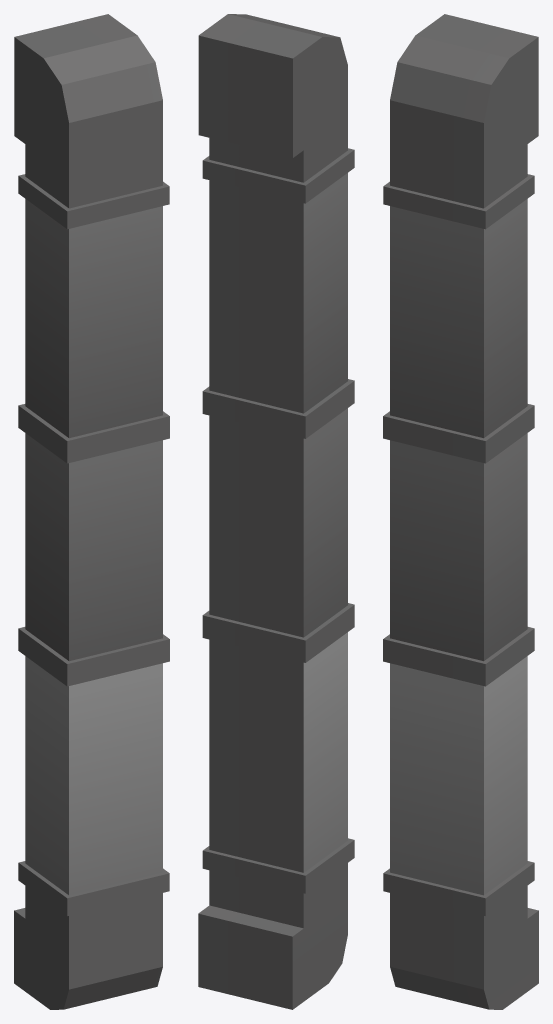
File: B02_conduit_xl.fbx
The picture shows the model from 3 angles, left to right: view 1: azimuth 30°, elevation 25°; view 2: azimuth 150°, elevation 25°; view 3: azimuth 330°, elevation 25°; orthographic projection.
Parts seen in each view (by area): view 1: B02_conduit_xl; view 2: B02_conduit_xl; view 3: B02_conduit_xl.
Part boxes in pixels (<box>): B02_conduit_xl: <box>14,14,169,1009</box>; B02_conduit_xl: <box>198,14,354,1009</box>; B02_conduit_xl: <box>383,14,538,1009</box>.
Bounding box in the file's own units: 89.21 × 786 × 86.56.
